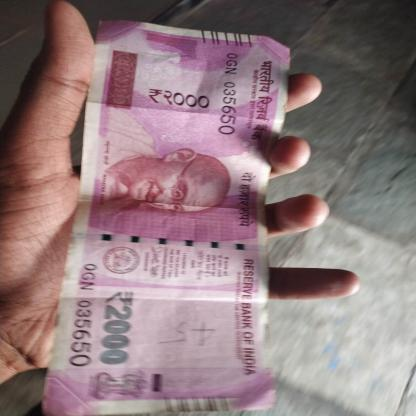New2000Front: (56, 33, 285, 415)
